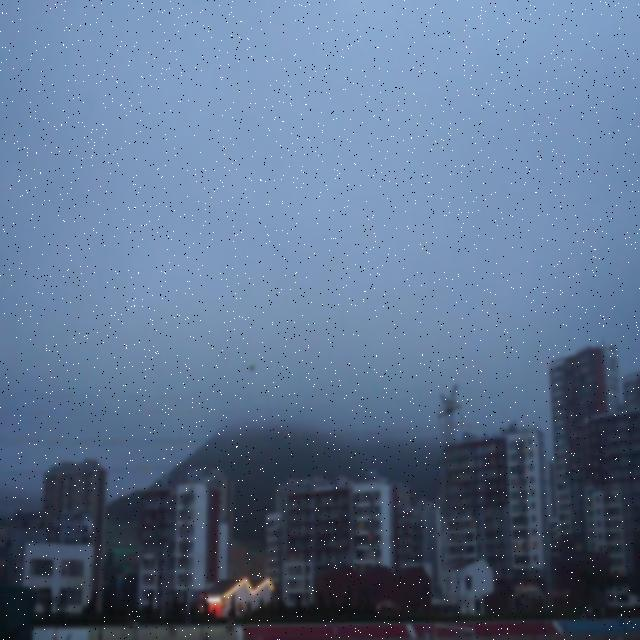UAV: (248, 364, 256, 373)
